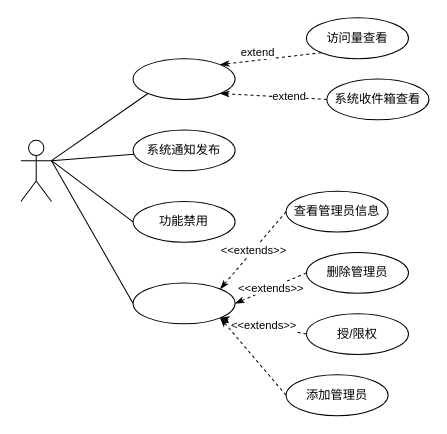
This 447x434 diagram has some shape labels left out. Each missing label, with the centre of its shape:
管理员: [36,170]
管理员信息管理: [183,303]
系统概况查看: [183,78]
